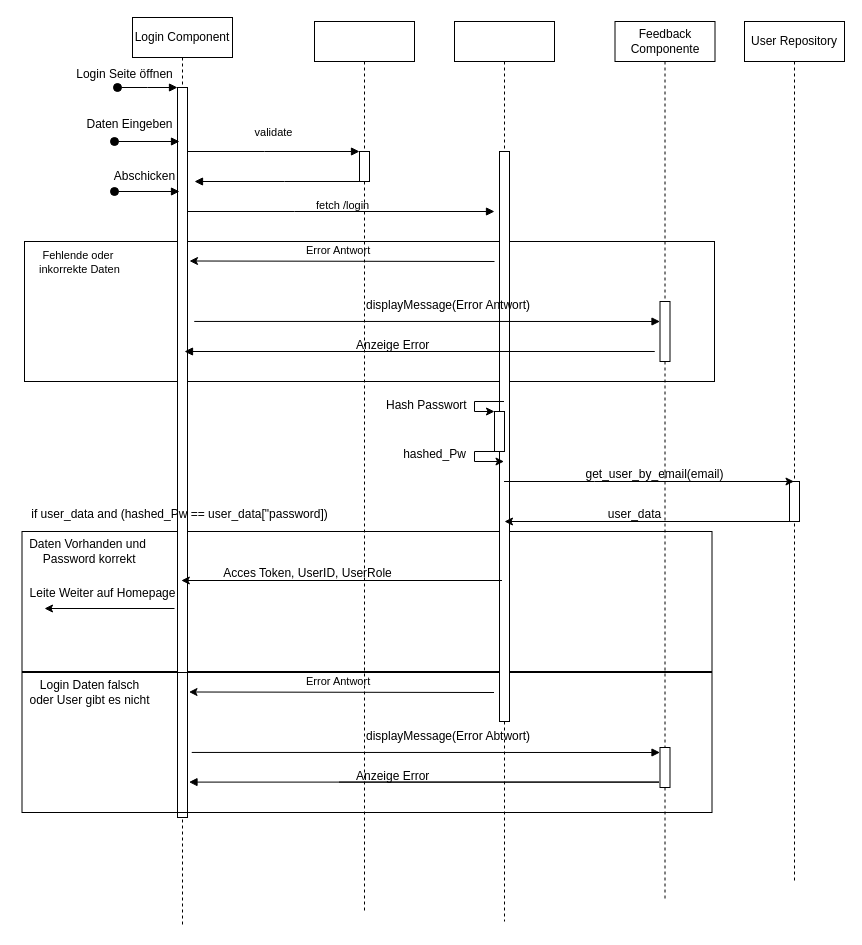
The diagram is 862 pixels wide and 945 high, and some of its shapes have lost their labels. The shapes that lost their labels are listed below. From the top down, each one's box as (x1, y1, x2, y2) in pixels, then its label:
(314, 20, 414, 912): Validator
(454, 20, 554, 922): Backend Routen
